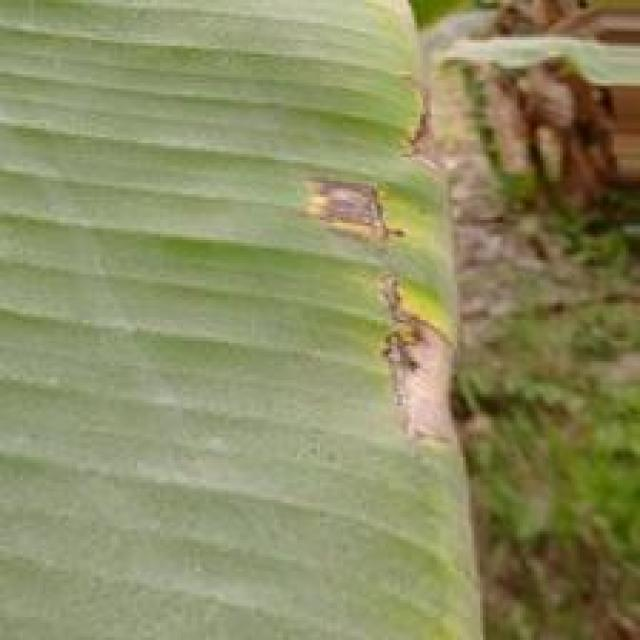Bacterial_spot: (355, 266, 471, 448), (293, 159, 411, 260), (381, 68, 443, 195)
